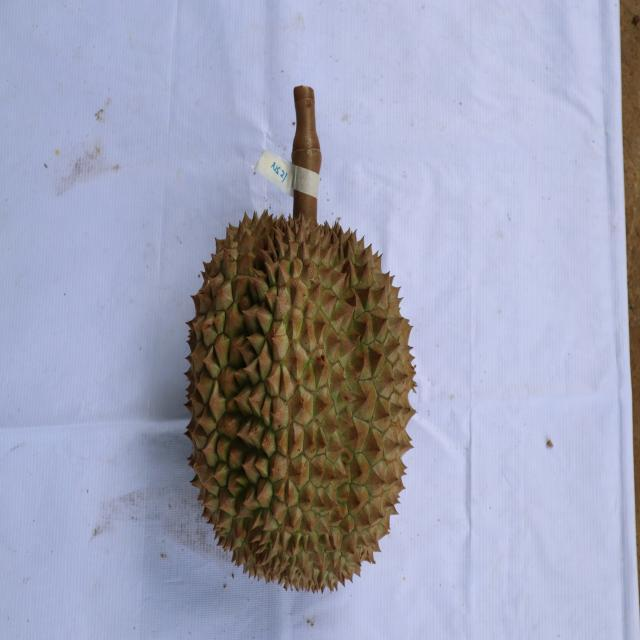mature: (186, 210, 418, 592)
